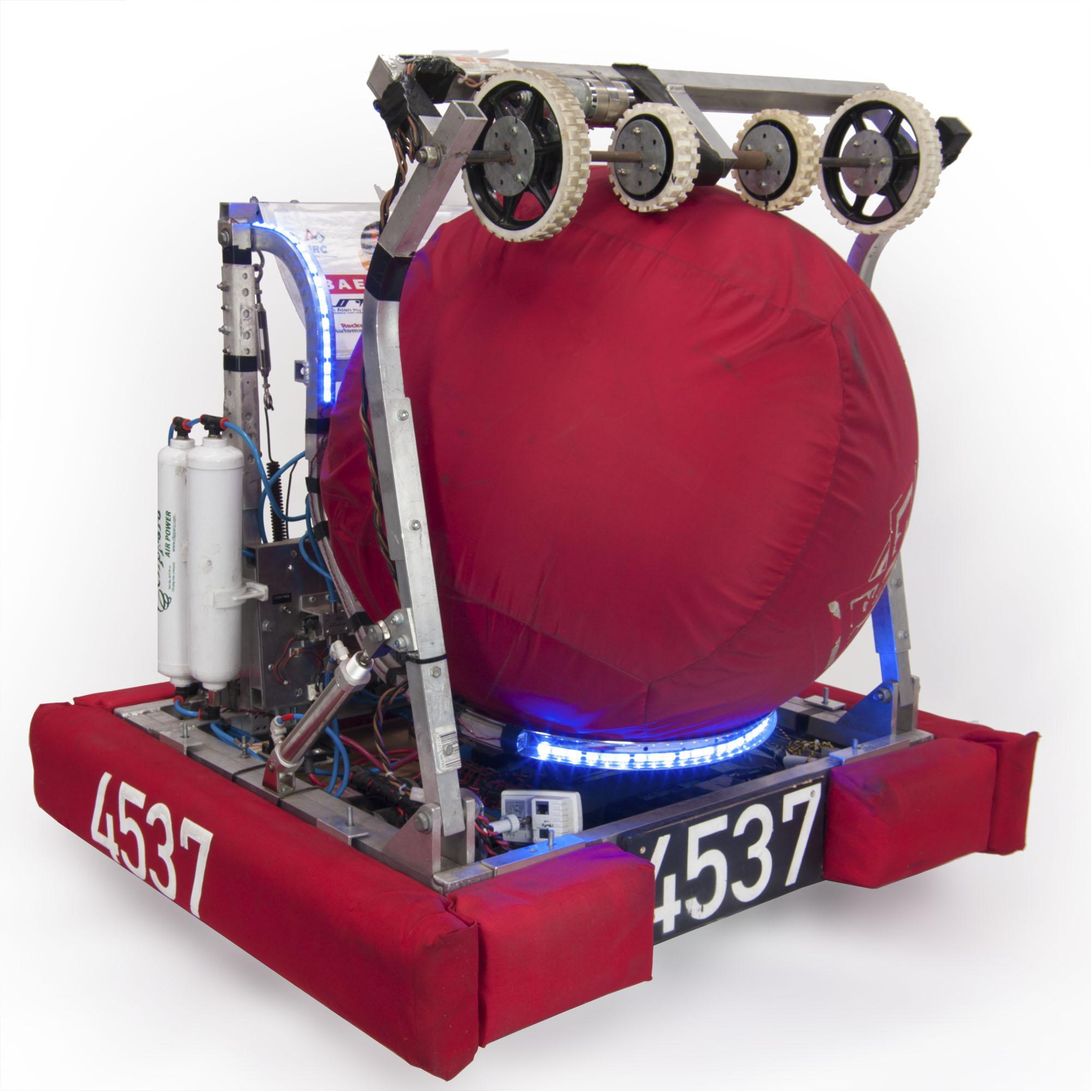robot: (22, 29, 1058, 1080)
